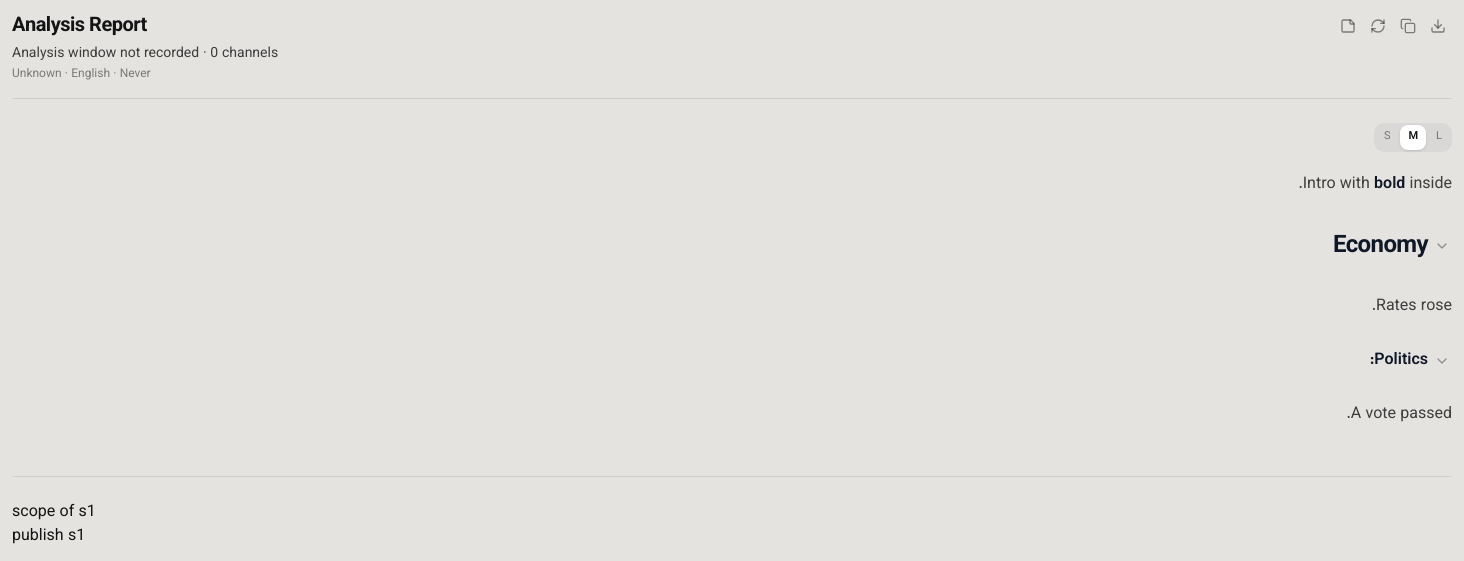
reading controls › every section, by heading or single bold line, folds and unfolds
Click the button named "Fold Economy" at (1442, 246), box [1432,236,1452,256]
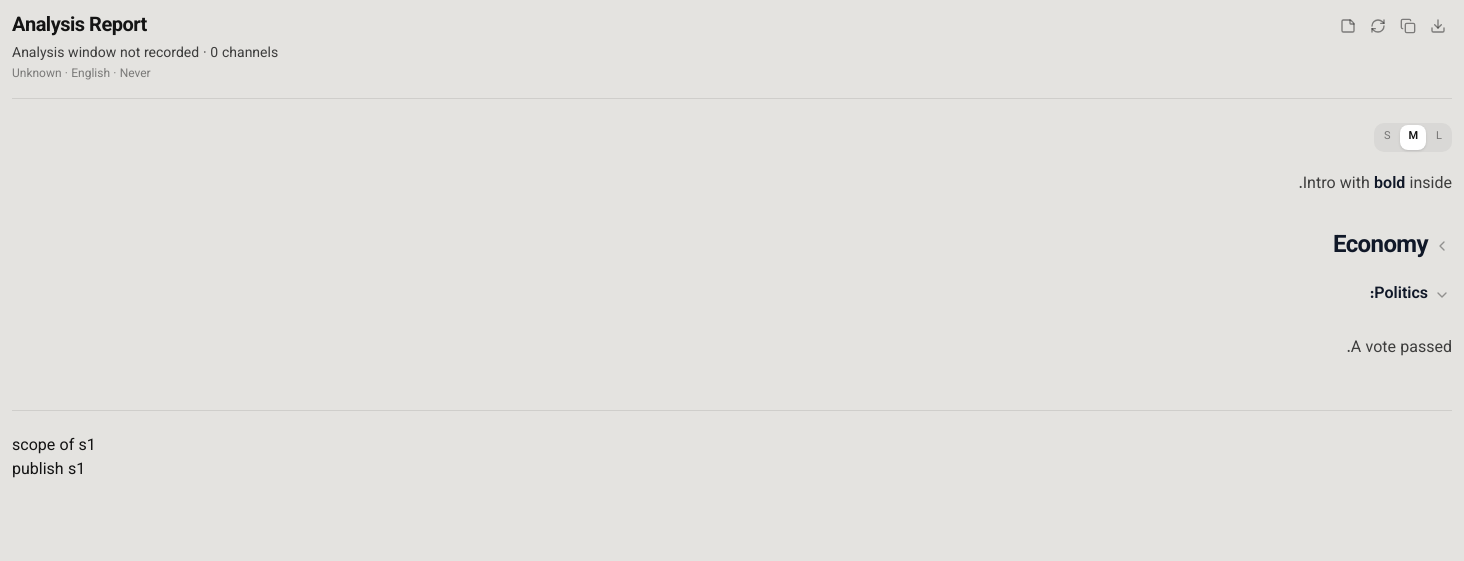
Expected: the heading "Economy" is shown, [1333,226,1428,264]
Result: the text "Rates rose." is gone
Click the button named "Unfold Economy" at (1442, 246), box [1432,236,1452,256]
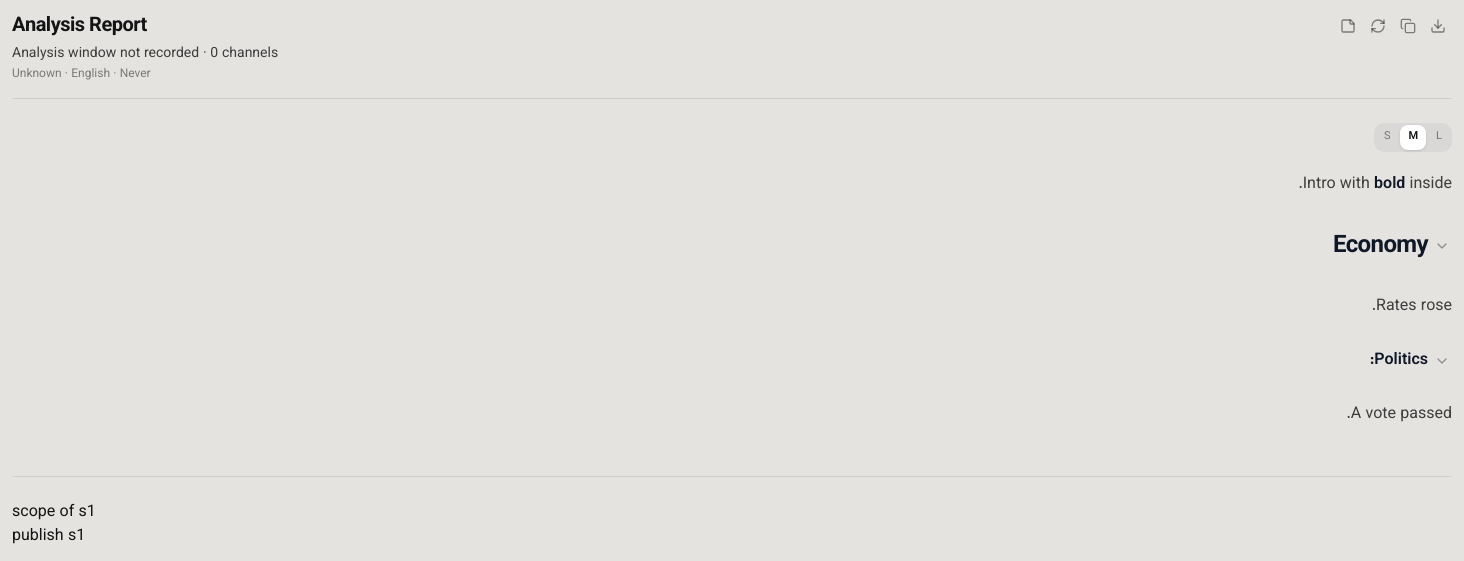
Result: the text "Rates rose." is shown at [1372,294,1452,318]
Click the button named "Fold Politics" at (1442, 360), box [1432,350,1452,370]
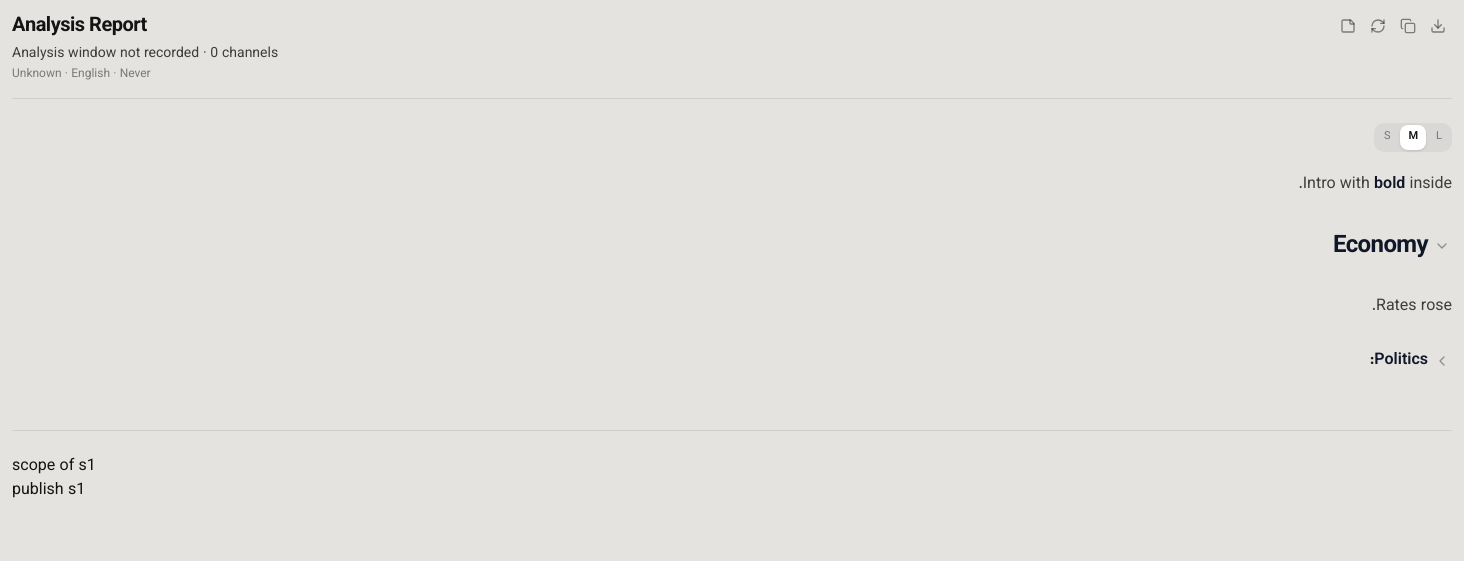
Expected: the text "Intro with bold inside." is shown, [1298,172,1452,196]
Result: the text "A vote passed." is gone
